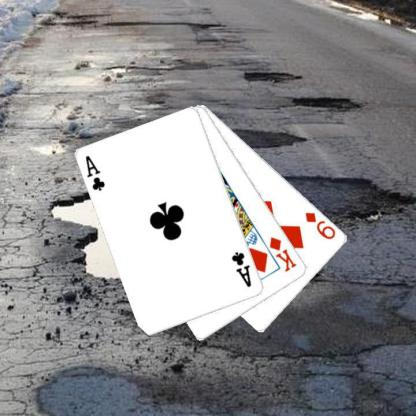9D: (303, 209, 337, 241)
AC: (229, 249, 253, 289), (83, 153, 107, 193)
KD: (267, 234, 298, 273)
